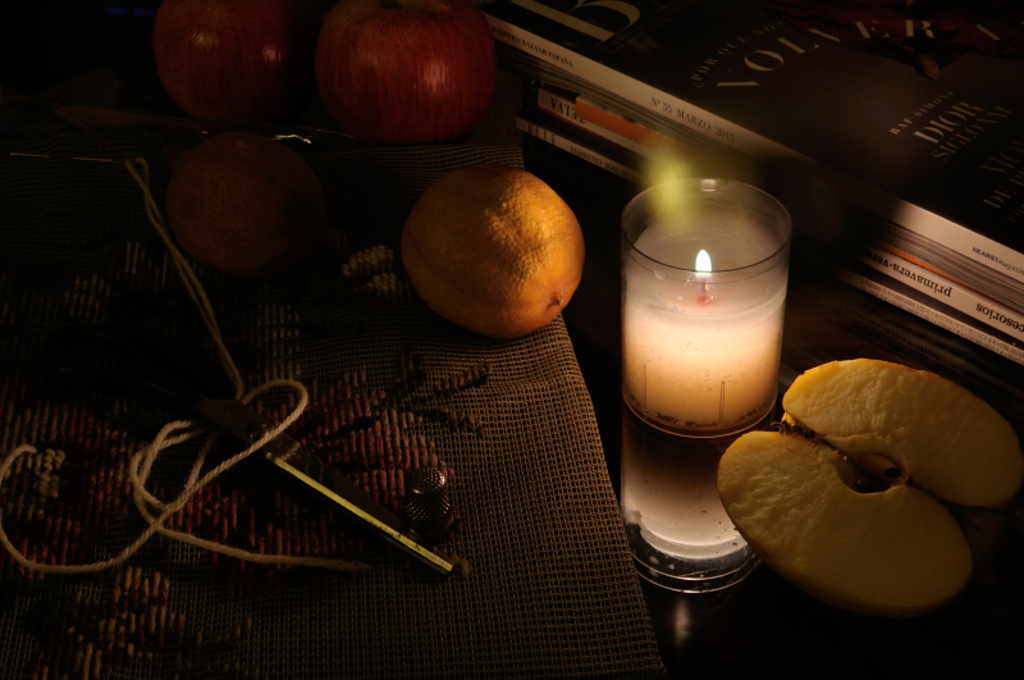Apple: (709, 356, 1022, 608), (323, 1, 499, 144), (165, 124, 326, 280), (147, 0, 316, 120)
